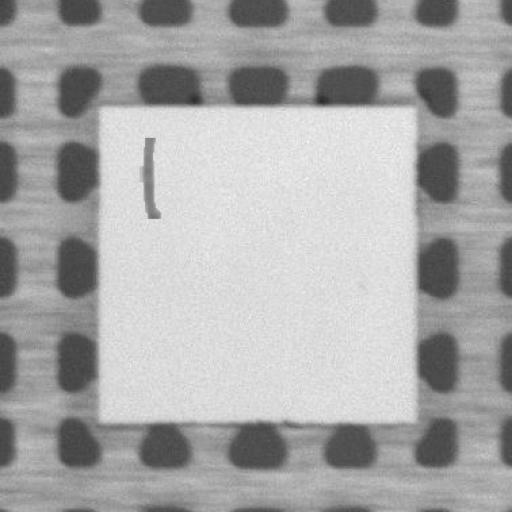DIE_INK: (138, 136, 161, 220)
